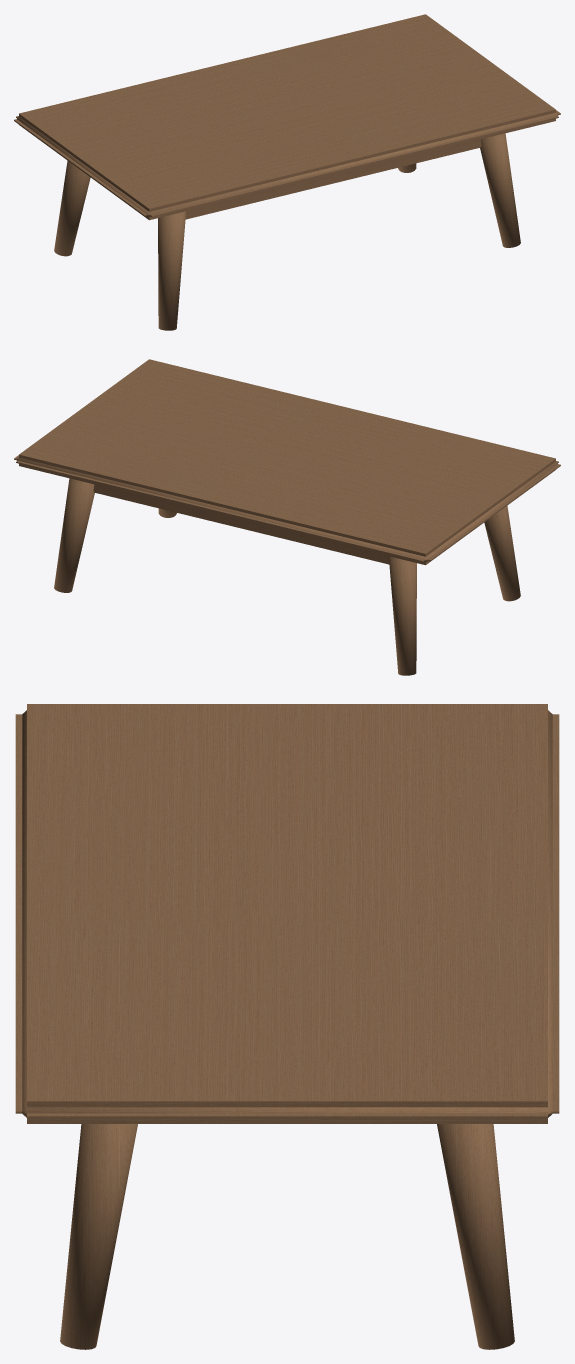
File: traditional.coffee_table.gltf
3 views of the same model, one above another, from view 1: azimuth 30°, elevation 25°; view 2: azimuth 150°, elevation 25°; view 3: azimuth 270°, elevation 25° (orthographic). The views are drawn at different scales.
Visible parts, largest first — view 1: traditional.coffee_table.rounded-top; view 2: traditional.coffee_table.rounded-top; view 3: traditional.coffee_table.rounded-top.
Boxes of the visible parts, box(x1,y1,x2,y2) form: traditional.coffee_table.rounded-top: box(14, 14, 560, 330); traditional.coffee_table.rounded-top: box(14, 359, 560, 675); traditional.coffee_table.rounded-top: box(15, 704, 559, 1349).
Size of the model in its own units: 1.15 by 0.3639 by 0.65.
Materials: 1 (1 with a texture image).
